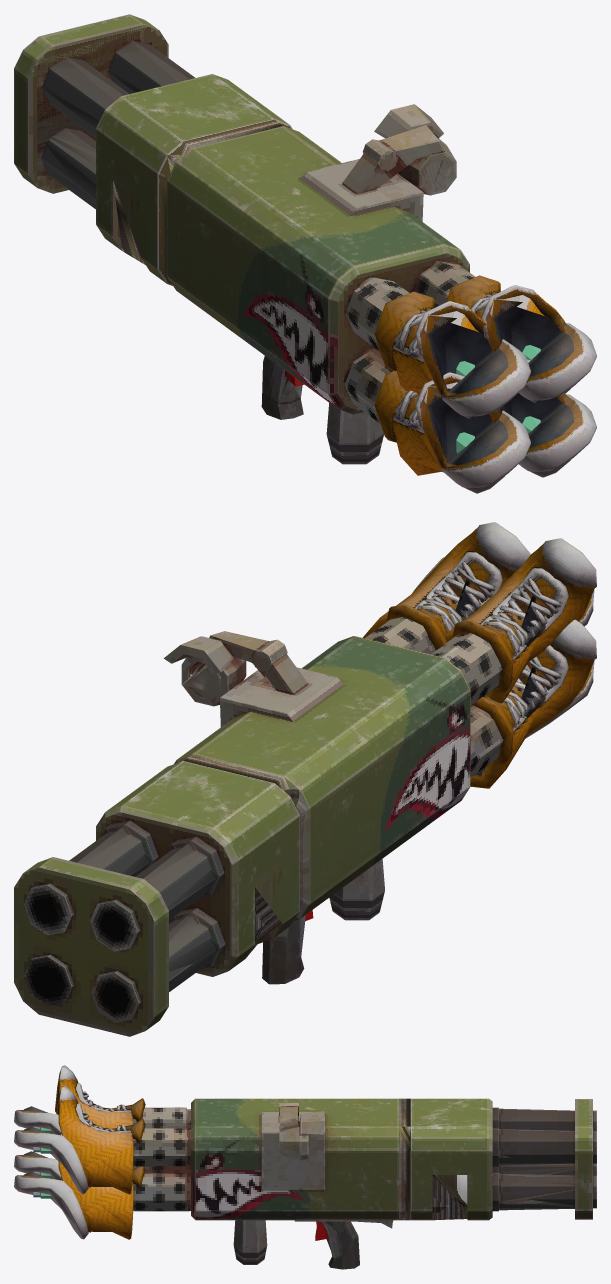
Rendered from item_rpg_barrage.glb.
The picture shows the model from 3 angles, top to bottom: view 1: azimuth 30°, elevation 25°; view 2: azimuth 150°, elevation 25°; view 3: azimuth 270°, elevation 25°; orthographic projection. The views are drawn at different scales.
Parts seen in each view (by area): view 1: MegaBarrage, RPG_ShoeRocket (×4); view 2: MegaBarrage, RPG_ShoeRocket (×3); view 3: MegaBarrage, RPG_ShoeRocket (×4).
Boxes of the visible parts, x1,y1,x2,y2 form: MegaBarrage: [14, 14, 475, 464]; RPG_ShoeRocket (×4): [374, 275, 596, 493]; MegaBarrage: [14, 616, 504, 1036]; RPG_ShoeRocket (×3): [362, 522, 596, 788]; MegaBarrage: [133, 1098, 596, 1269]; RPG_ShoeRocket (×4): [14, 1065, 145, 1239].
Size of the model in its own units: 0.6395 by 0.7919 by 2.29.
6 materials, 4 textured.
